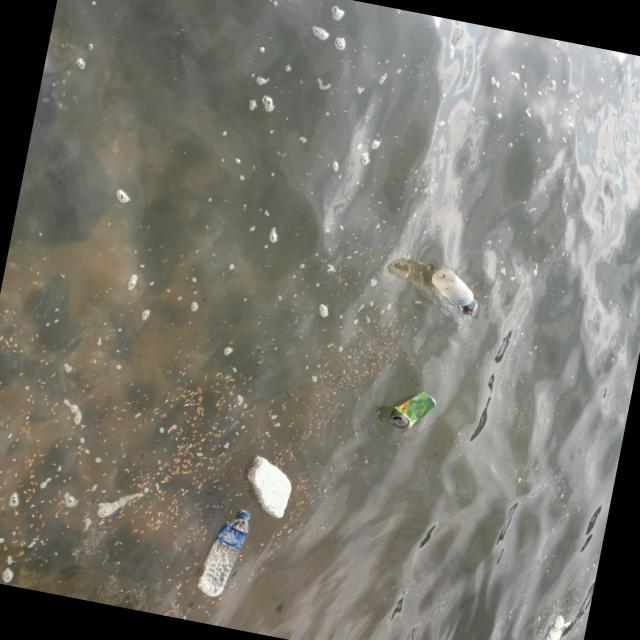can: (385, 388, 439, 436), (427, 265, 478, 311)
foam: (240, 455, 298, 521), (538, 612, 566, 640)
plastic bottle: (191, 506, 253, 603)
